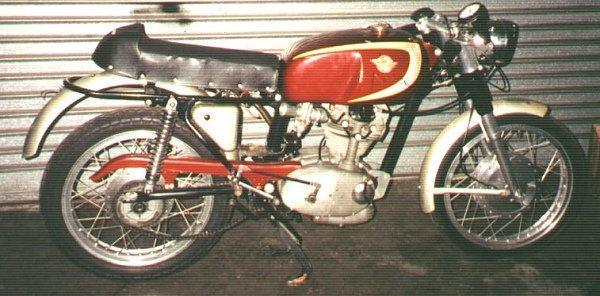motorcycle: (10, 4, 591, 285)
